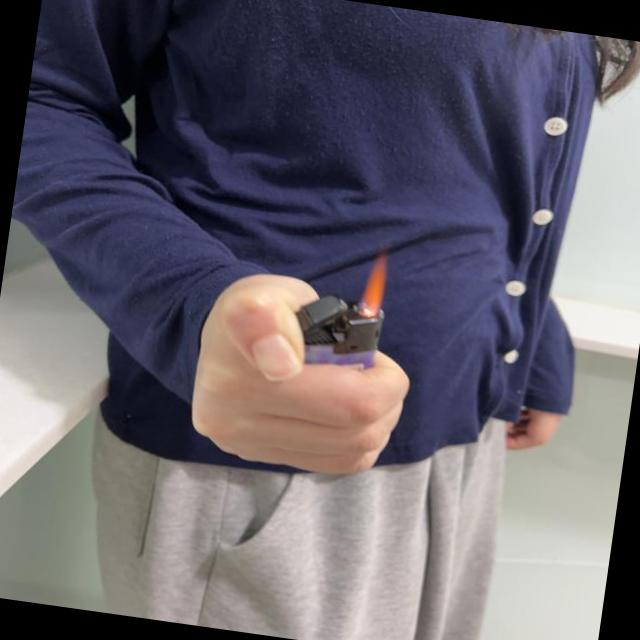Fire: (363, 250, 390, 319)
